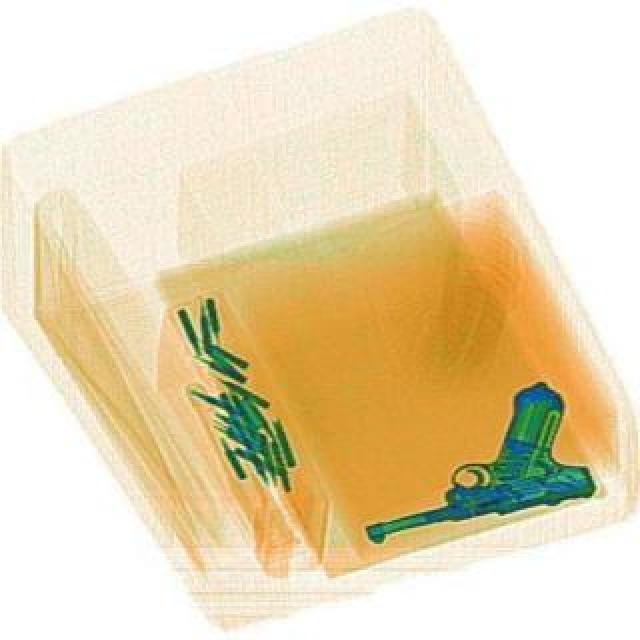gun: (334, 376, 594, 544)
